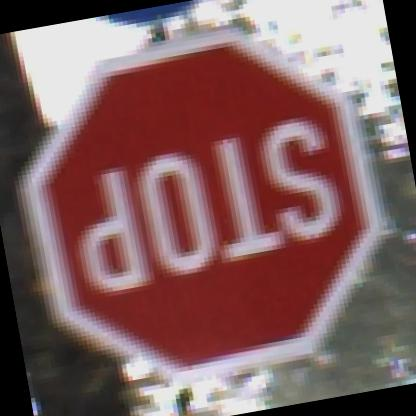stop: (0, 7, 411, 407)
